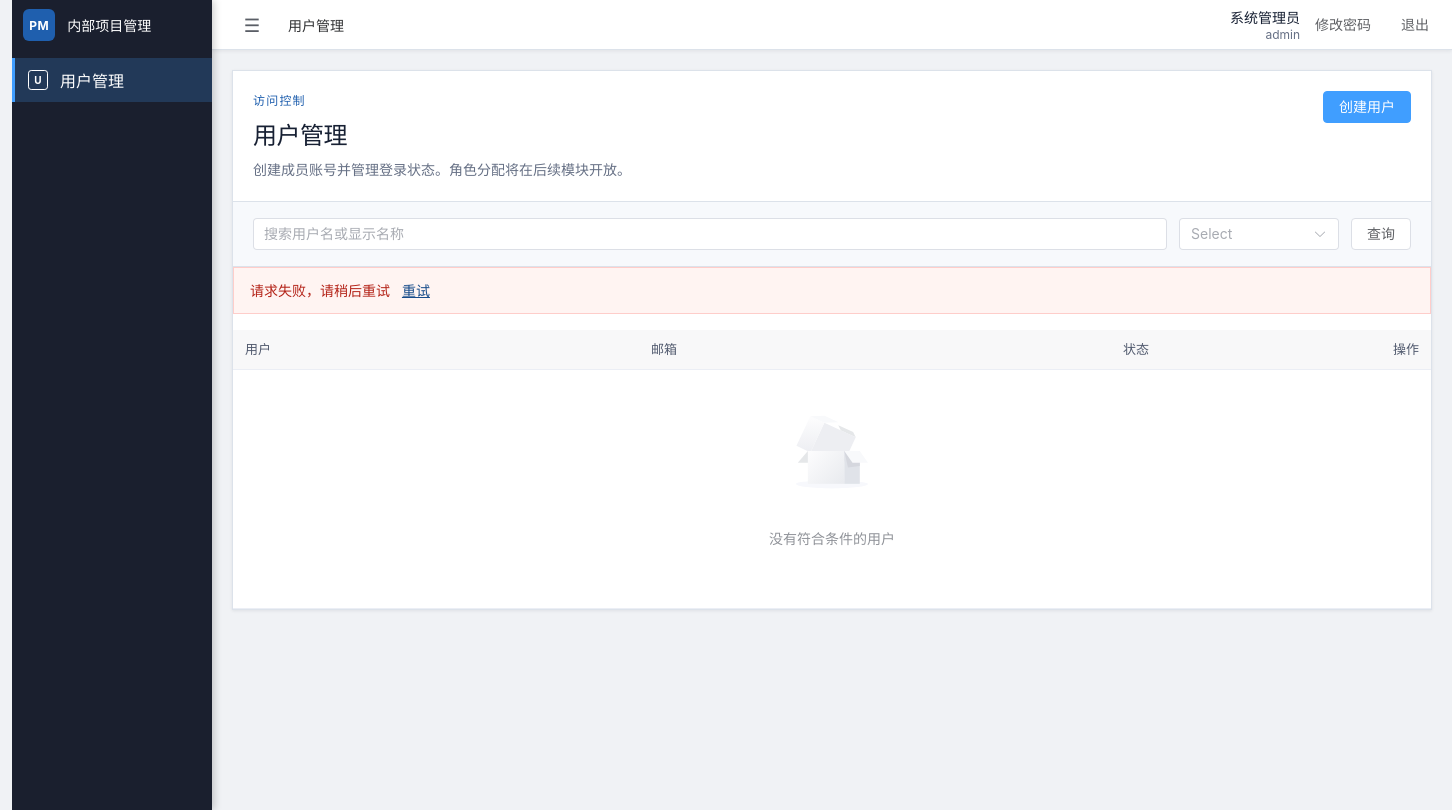
Test: App › restores an existing session and logs out
What coordinates should you click on to do the following:
click the button with test id "logout"
I would click on:
 (1415, 24)
Its box is [1398,14,1432,34].
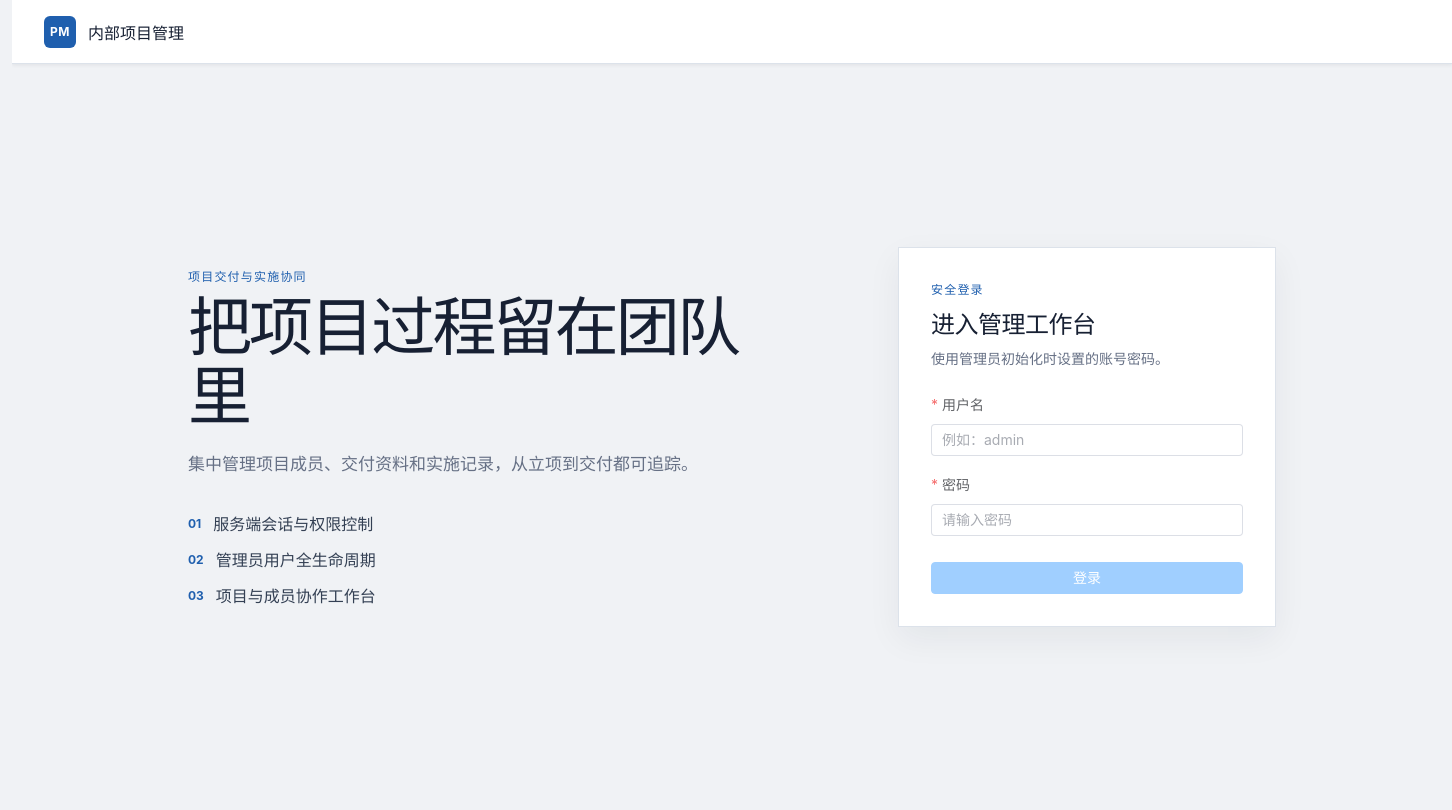
Expected: the field named "username" is shown, [942,425,1232,455]
